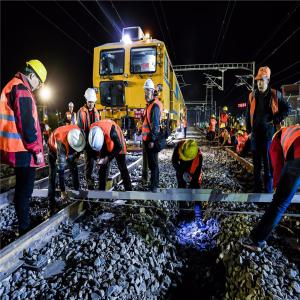none: (257, 68, 271, 92), (232, 114, 235, 119)
red: (184, 116, 186, 121)
white: (68, 128, 86, 153), (89, 126, 106, 152), (85, 88, 99, 110), (144, 79, 156, 102), (69, 103, 75, 113), (238, 119, 241, 123)
yellow: (25, 58, 49, 94), (181, 140, 200, 163), (223, 107, 229, 115), (238, 131, 244, 139), (44, 118, 50, 125), (221, 124, 226, 131), (242, 127, 247, 134), (212, 115, 216, 120), (207, 126, 211, 131)
